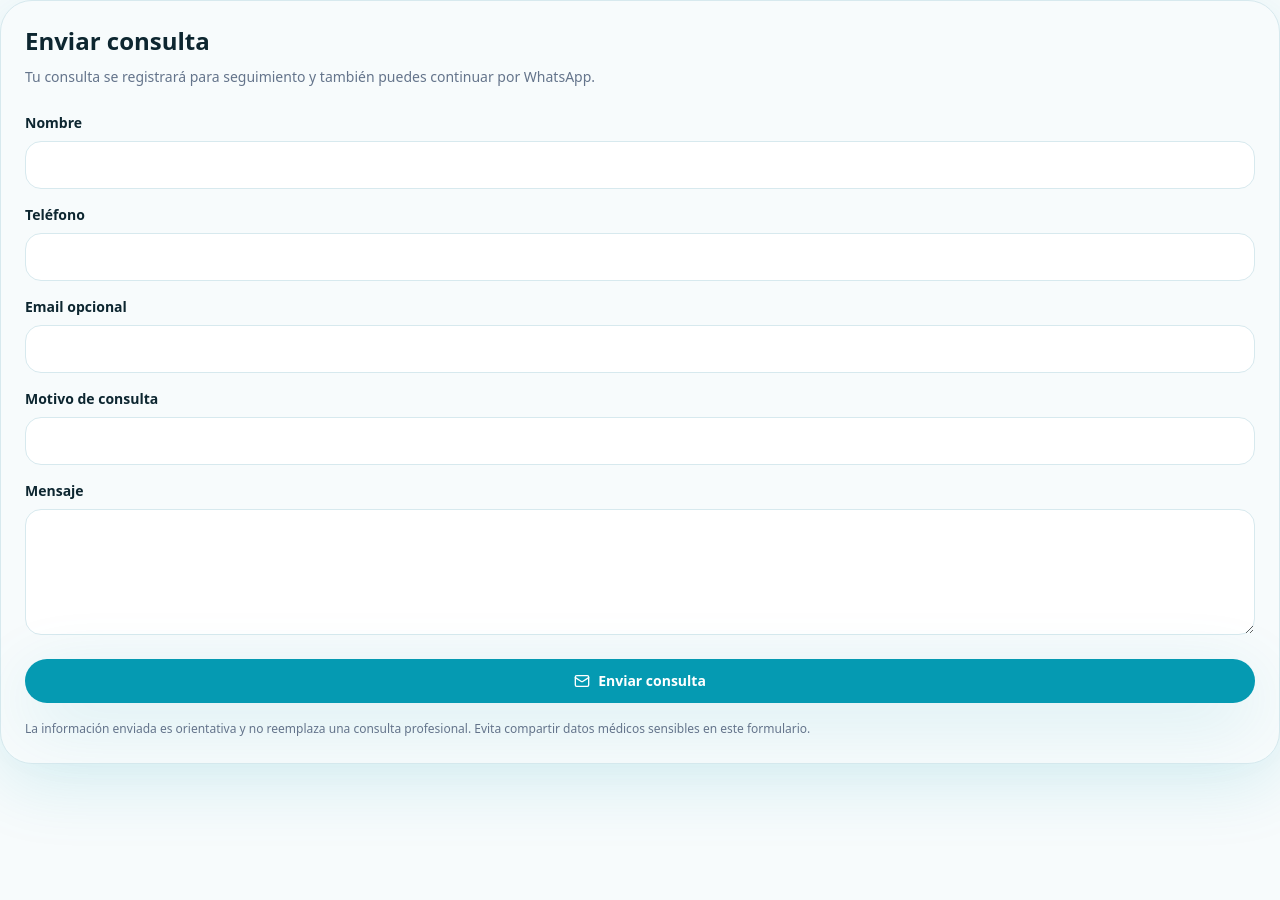
Test: ContactLeadForm › shows validation errors before submitting invalid data
What coordinates should you click on to do the following:
click the button "Enviar consulta"
I would click on:
 (640, 681)
Its box is [25,659,1255,703].
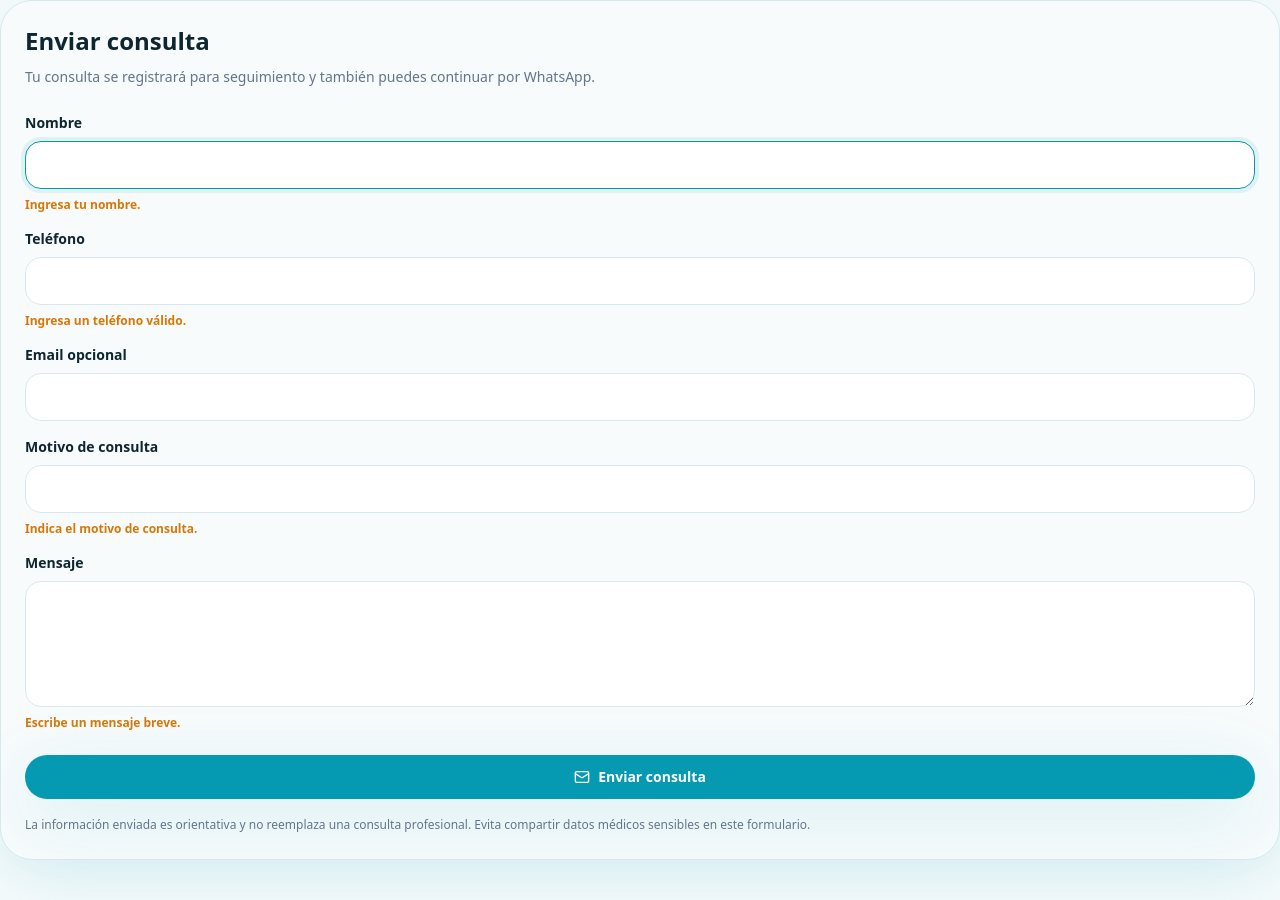
Result: the text "Ingresa tu nombre." is shown at [25,196,140,213]
Result: the text "Ingresa un teléfono válido." is shown at [25,312,186,329]
